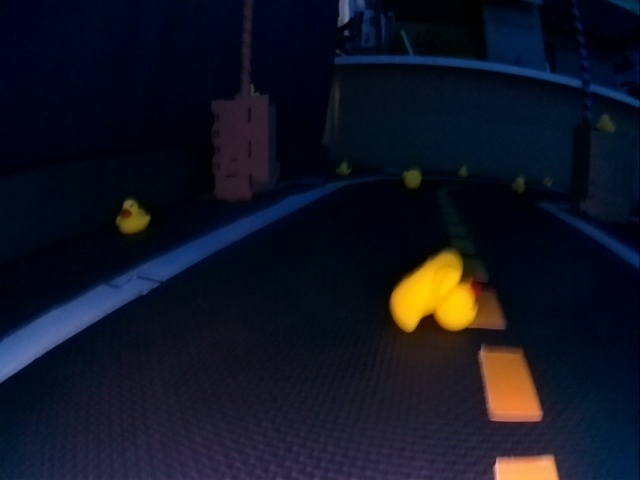Duckie: (389, 249, 479, 332), (116, 199, 150, 233), (404, 169, 422, 188), (598, 115, 616, 131), (512, 178, 524, 192), (339, 162, 351, 175)
